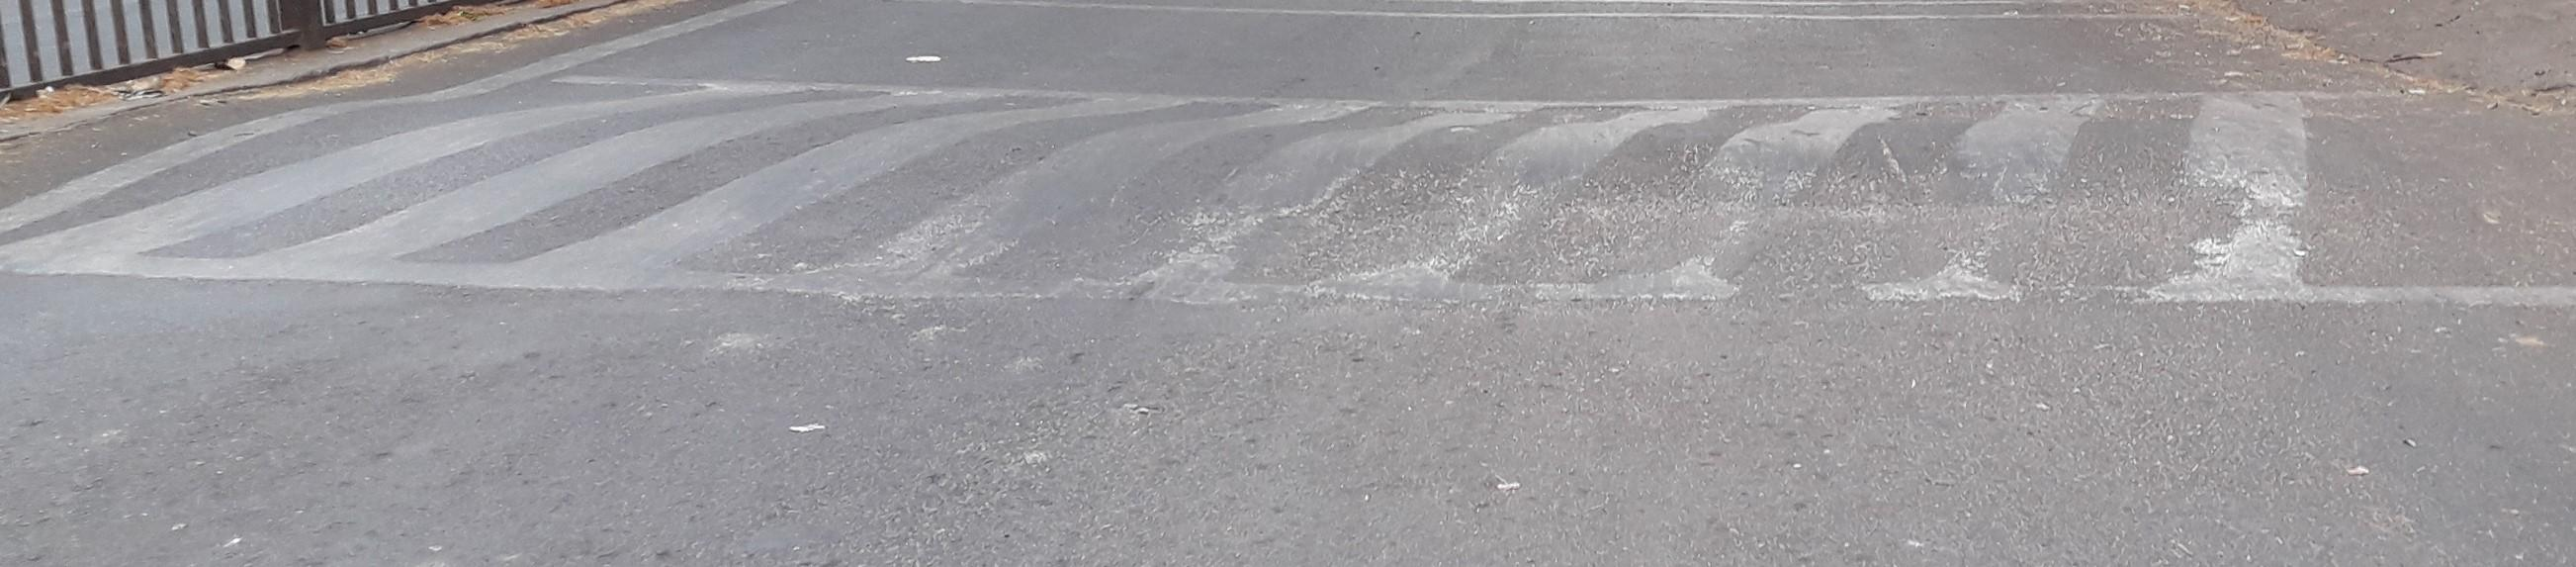speed-bump: (7, 59, 2574, 300)
